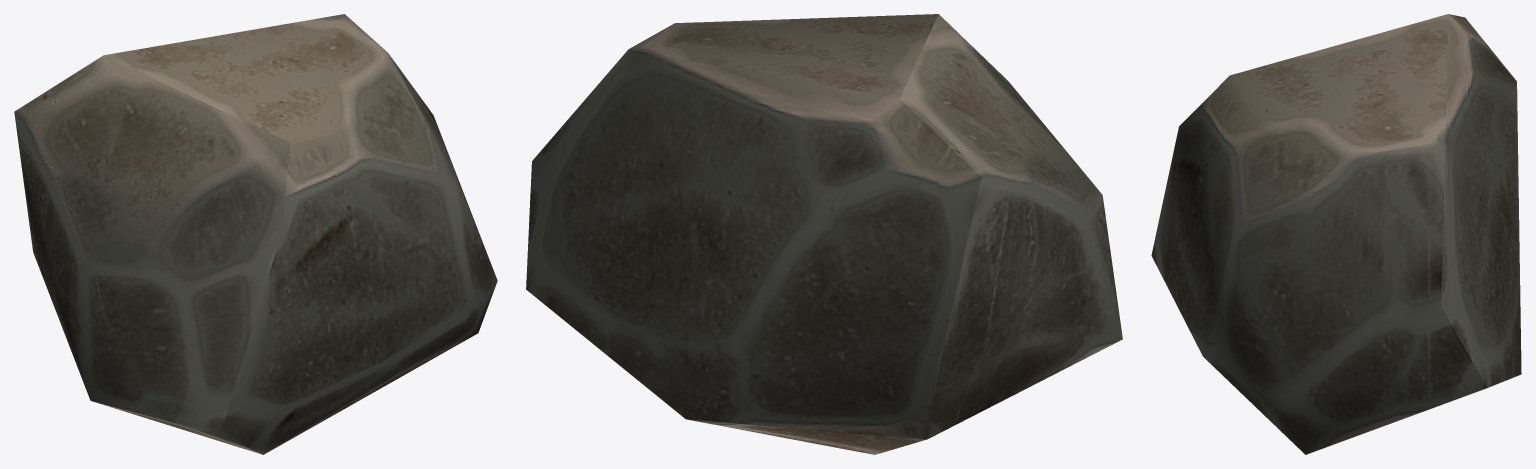
File: pebble_3.fbx
The picture shows the model from 3 angles, left to right: view 1: azimuth 30°, elevation 25°; view 2: azimuth 150°, elevation 25°; view 3: azimuth 270°, elevation 25°; orthographic projection. The views are drawn at different scales.
Visible parts, largest first — view 1: pebble_3; view 2: pebble_3; view 3: pebble_3.
Part boxes in pixels (x1=…): pebble_3: x1=14, y1=14, x2=497, y2=454; pebble_3: x1=526, y1=14, x2=1122, y2=454; pebble_3: x1=1151, y1=14, x2=1521, y2=454.
Size of the model in its own units: 0.4197 by 0.3283 by 0.3158.
